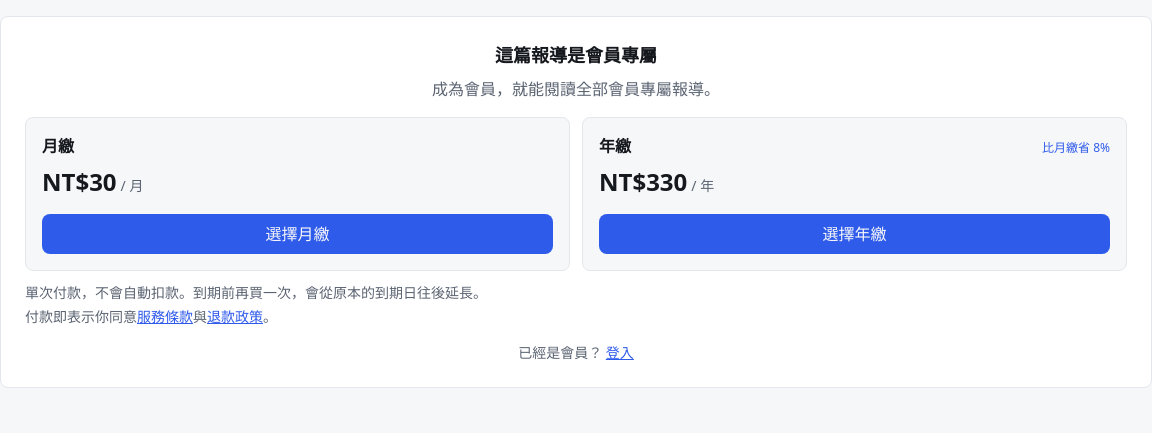
Test case: the paywall › says try again when the payment page could not be opened
Click the button "選擇年繳": x=854, y=234 [599,214,1110,254]
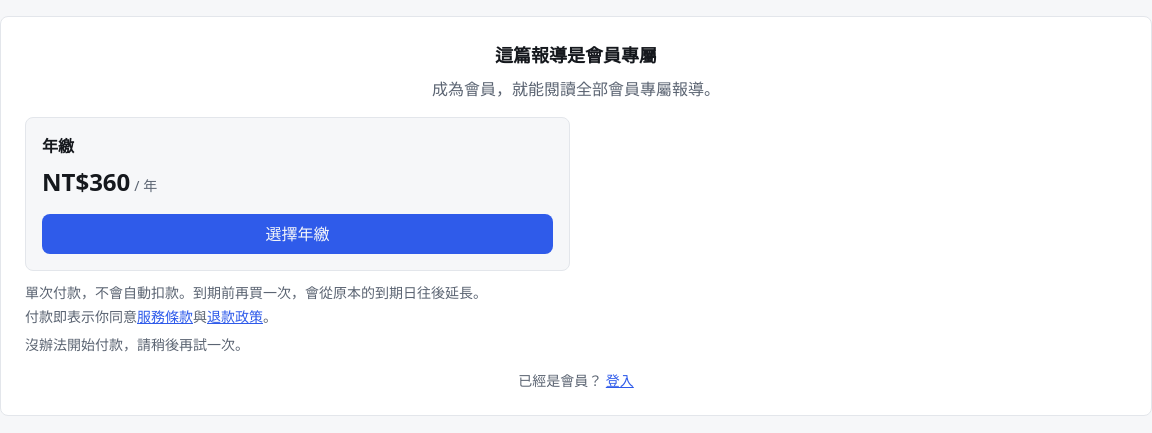
Check: the message shows "請稍後再試", box [25,335,249,354]
